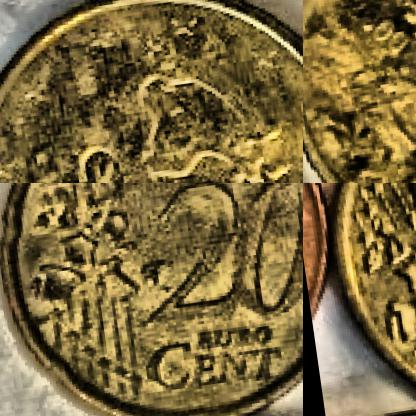coin: (0, 183, 302, 415), (0, 0, 302, 182), (306, 183, 415, 415), (303, 0, 415, 182)
